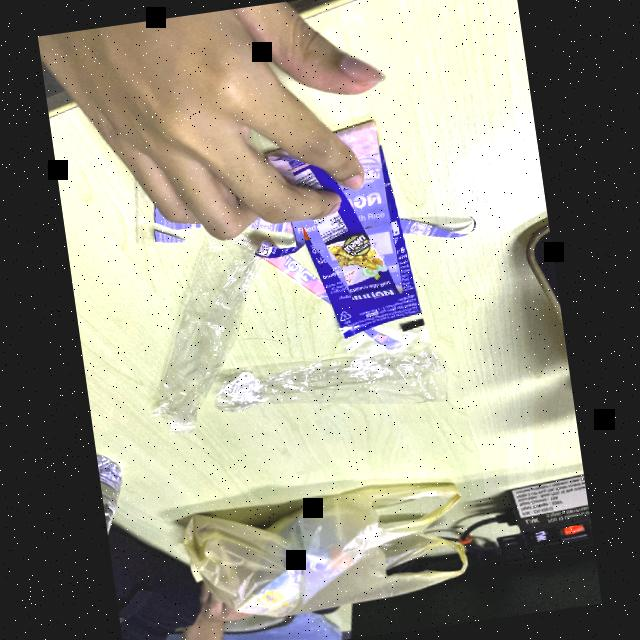scrap_plastic: (258, 118, 458, 362), (202, 326, 470, 443), (124, 233, 281, 430)
